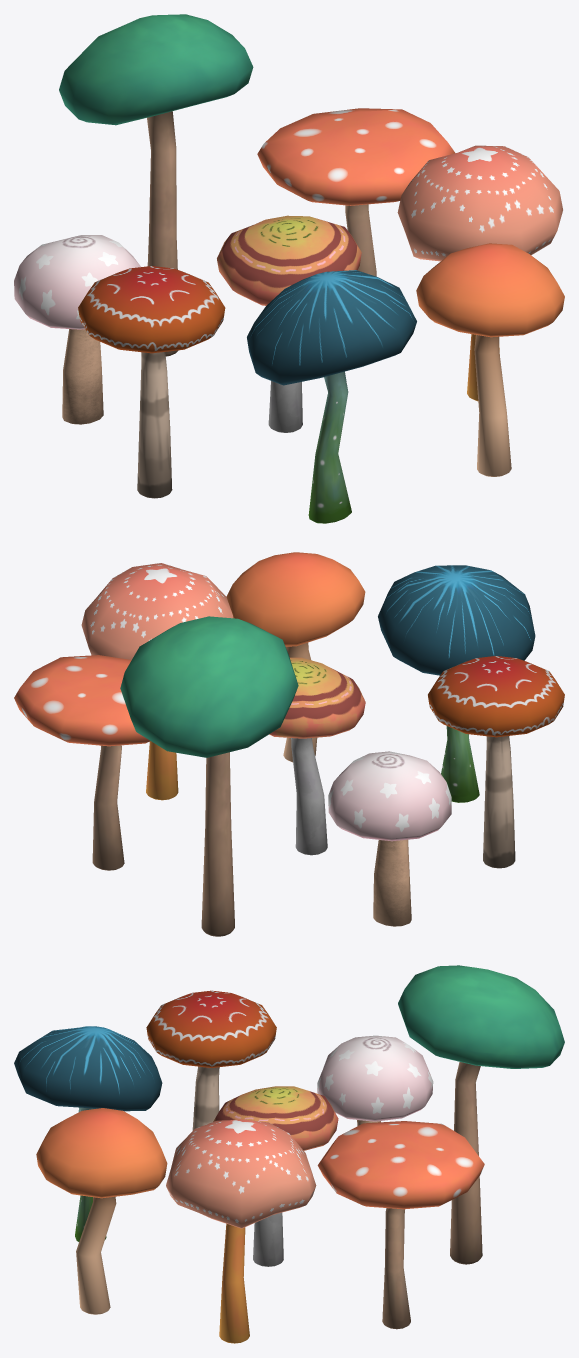
The model's file is Mushroom1Variations.fbx.
The picture shows the model from 3 angles, top to bottom: view 1: azimuth 30°, elevation 25°; view 2: azimuth 150°, elevation 25°; view 3: azimuth 270°, elevation 25°; orthographic projection. The views are drawn at different scales.
Visible parts, largest first — view 1: Mushroom1.008, Mushroom1.004, Mushroom1.005, Mushroom1.006, Mushroom1.007, Mushroom1.001, Mushroom1.002, Mushroom1.003; view 2: Mushroom1.008, Mushroom1.004, Mushroom1.001, Mushroom1.002, Mushroom1.005, Mushroom1.006, Mushroom1.007, Mushroom1.003; view 3: Mushroom1.008, Mushroom1.006, Mushroom1.005, Mushroom1.007, Mushroom1.004, Mushroom1.001, Mushroom1.002, Mushroom1.003.
Part boxes in pixels (x1,y1,x2,y2): Mushroom1.008: (59,14,253,356); Mushroom1.004: (247,270,416,523); Mushroom1.005: (257,108,455,276); Mushroom1.006: (397,145,562,401); Mushroom1.007: (416,243,564,476); Mushroom1.001: (78,266,225,498); Mushroom1.002: (14,235,140,424); Mushroom1.003: (217,215,361,432); Mushroom1.008: (120,616,298,936); Mushroom1.004: (378,565,535,802); Mushroom1.001: (428,656,564,868); Mushroom1.002: (328,751,451,926); Mushroom1.005: (14,655,150,870); Mushroom1.006: (81,563,233,800); Mushroom1.007: (226,552,365,762); Mushroom1.003: (269,657,365,855); Mushroom1.008: (398,965,564,1264); Mushroom1.006: (166,1119,316,1343); Mushroom1.005: (317,1121,484,1329); Mushroom1.007: (36,1108,167,1314); Mushroom1.004: (14,1026,162,1241); Mushroom1.001: (146,990,276,1130); Mushroom1.002: (317,1035,433,1125); Mushroom1.003: (213,1086,338,1266).
Size of the model in its own units: 995 by 649 by 1116.
Materials: 8 (8 with a texture image).
